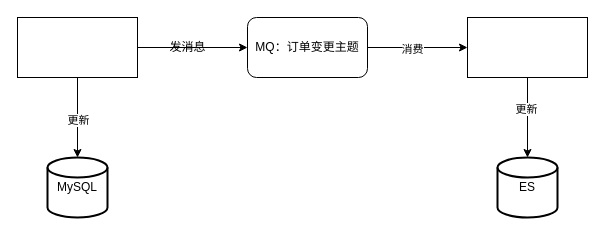
Image size: 605x236. Some labels were removed from this diagram. Here are the shapes that lost their labels. From the top down, the centre of each, then its label:
At (x=77, y=47): "订单服务".
At (x=527, y=47): "订单数据更新服务".
